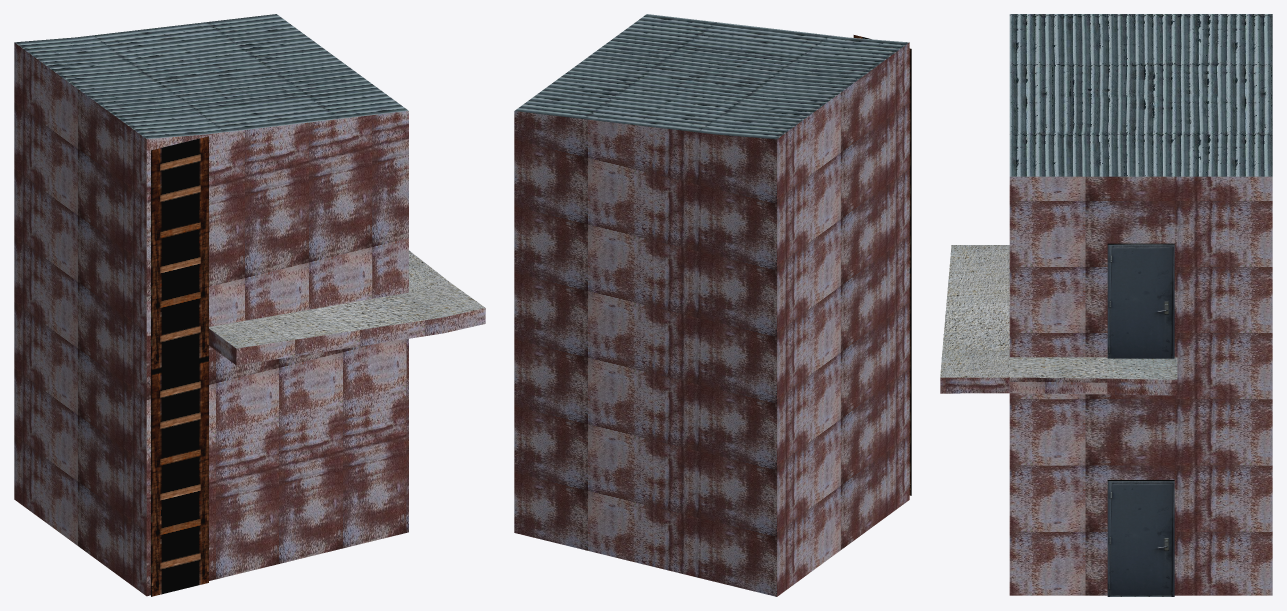
Rendered from HomeLv2.fbx.
3 renders of one model, left to right at view 1: azimuth 30°, elevation 25°; view 2: azimuth 150°, elevation 25°; view 3: azimuth 270°, elevation 25°, orthographic.
Visible parts, largest first — view 1: polySurface11; view 2: polySurface11; view 3: polySurface11.
Part boxes in pixels (<box>): polySurface11: <box>14,14,485,596</box>; polySurface11: <box>514,14,911,596</box>; polySurface11: <box>940,14,1272,596</box>.
Size of the model in its own units: 24 by 33.99 by 22.54.
Materials: 5 (5 with a texture image).
